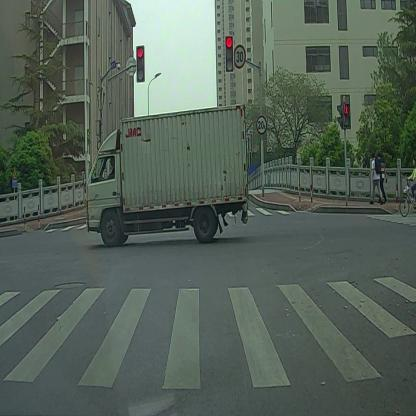Red Light: (224, 34, 235, 72), (136, 44, 146, 84)
